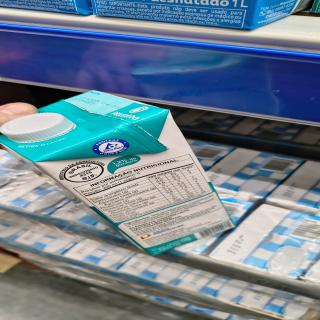Milk: (7, 100, 237, 240)
